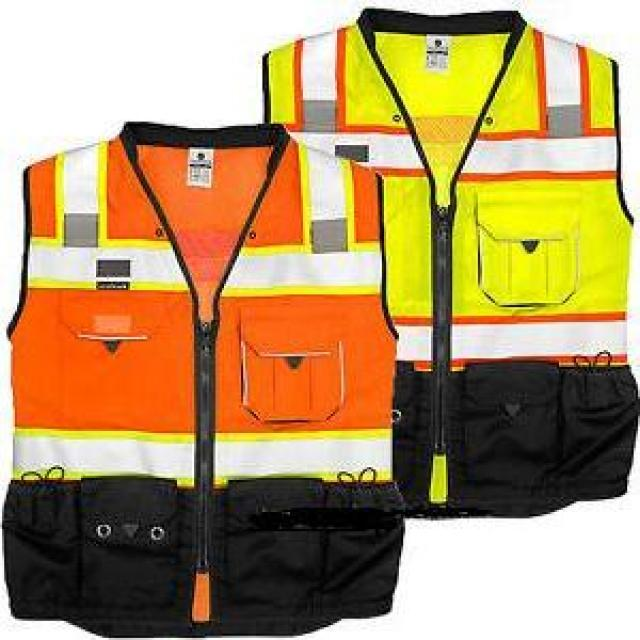Reflective-Jacket: (241, 11, 640, 533), (4, 111, 414, 557)
